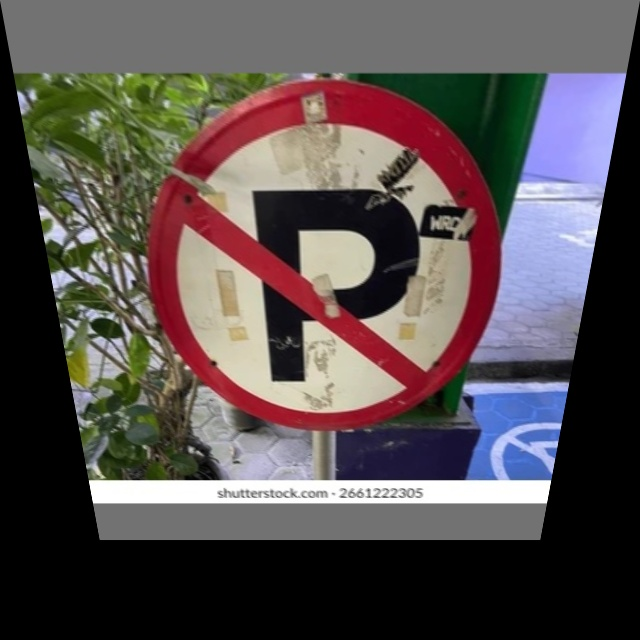No_Parking: (130, 79, 516, 420)
